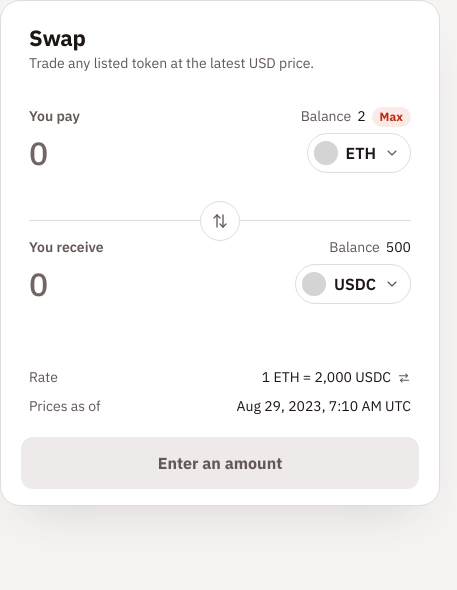
Test: SwapForm › explains an insufficient balance inline and on the button
The image size is (457, 590).
Type "3" into the field labelled "You pay" at (162, 153), box [29,133,295,173]
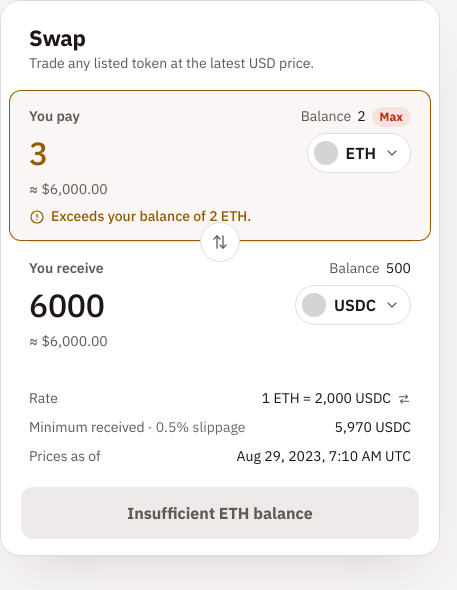
Expected: the button "Insufficient ETH balance" is shown, [21,487,419,539]
